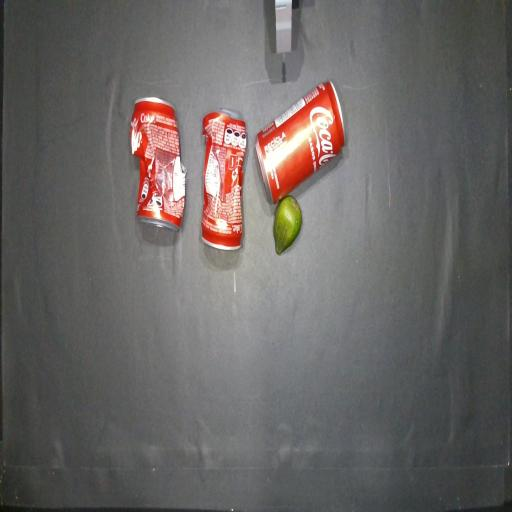higo: (273, 195, 302, 254)
lata: (255, 81, 345, 203)
lata_defectuoso: (130, 97, 186, 230), (202, 109, 247, 249)
